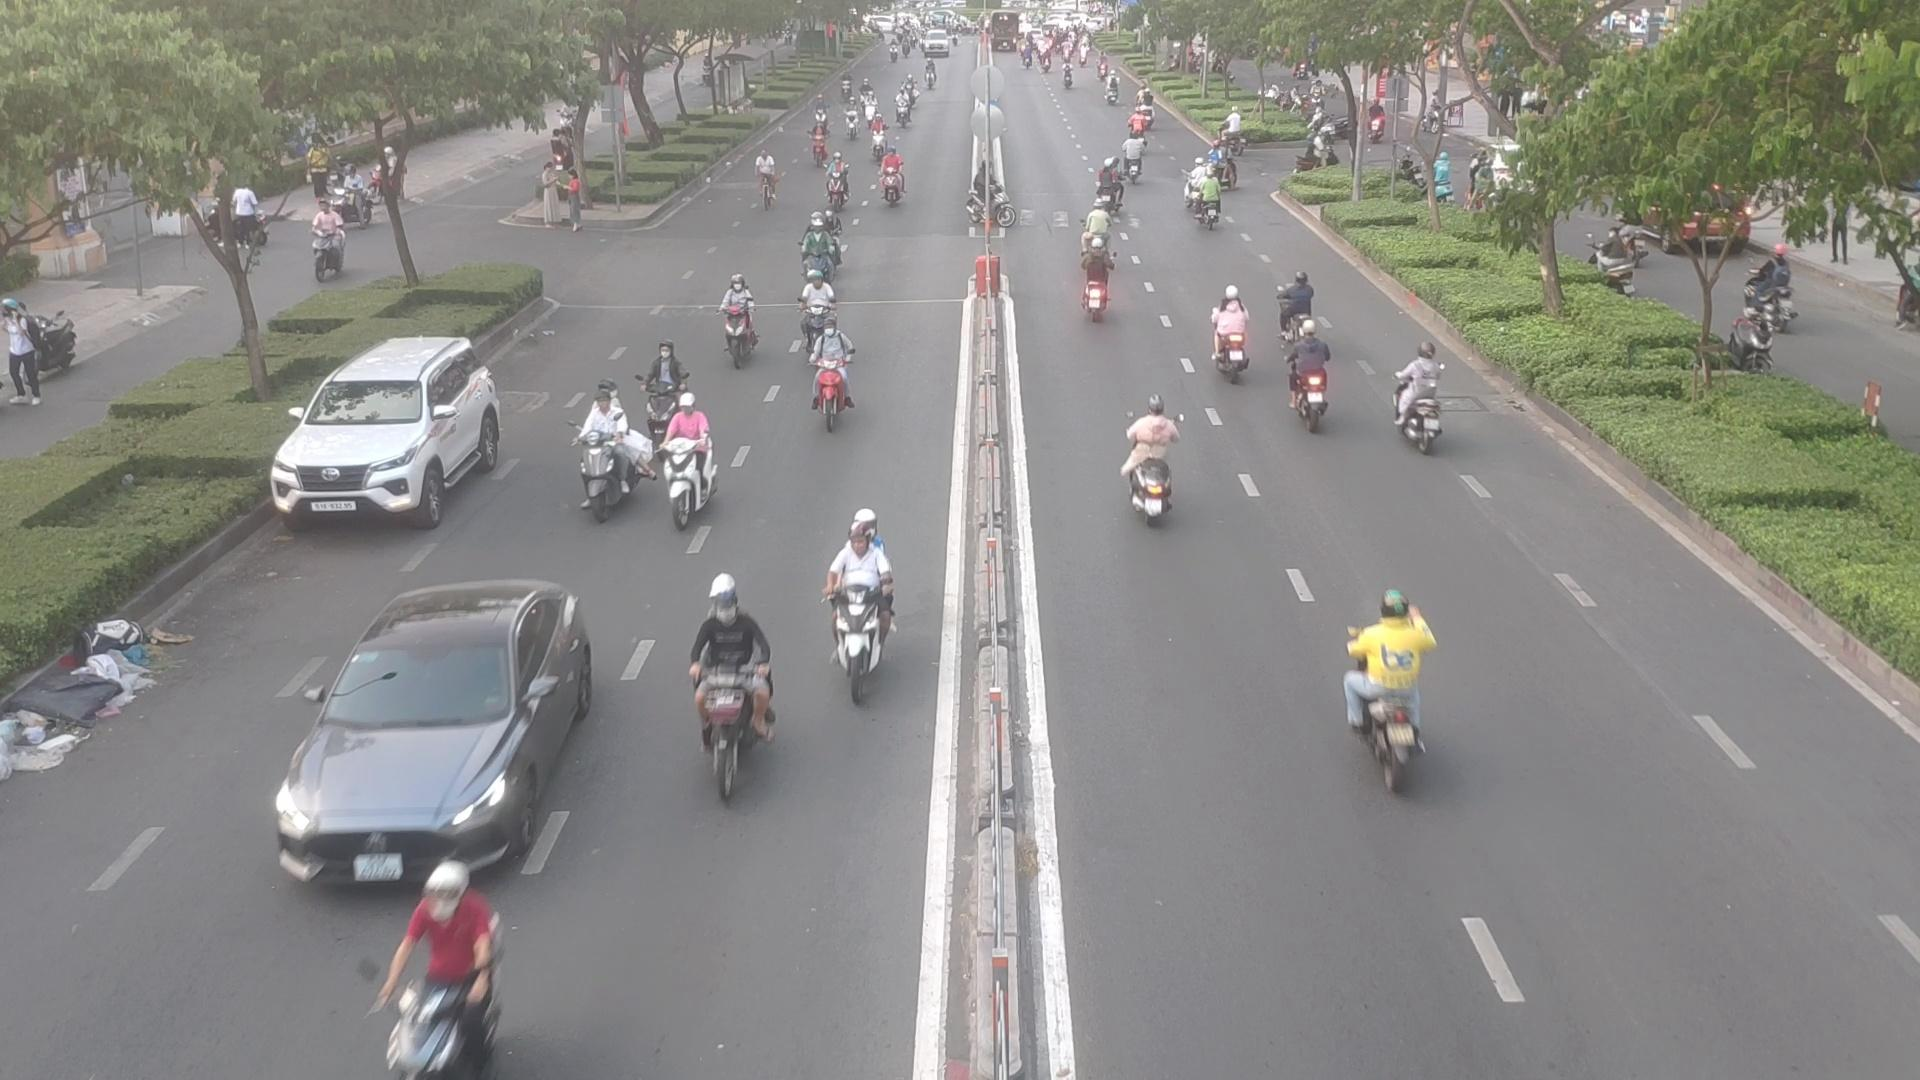car: (274, 578, 585, 897), (276, 331, 518, 524)
motorbike: (363, 886, 512, 1077), (673, 597, 775, 799), (1346, 583, 1447, 779), (828, 516, 902, 707), (576, 394, 655, 520), (657, 396, 727, 529), (1120, 404, 1185, 526), (804, 309, 864, 429), (1396, 339, 1458, 448), (1280, 322, 1335, 427), (708, 273, 760, 369), (640, 342, 694, 421), (1212, 293, 1259, 382), (1071, 207, 1124, 280), (800, 222, 851, 284), (1182, 166, 1222, 225), (873, 152, 909, 208), (1211, 137, 1245, 183), (1120, 138, 1149, 183)
